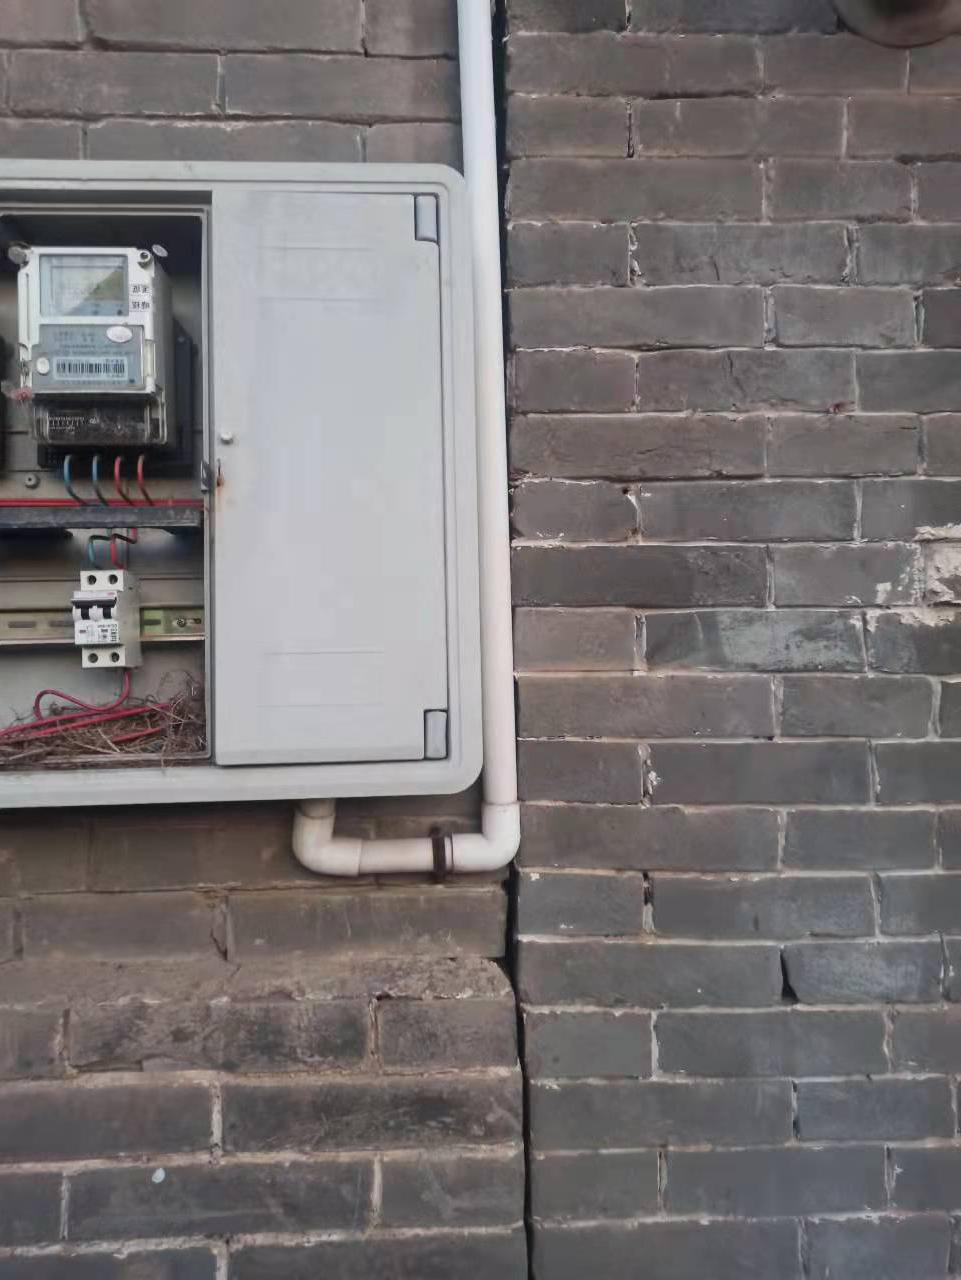digital: (19, 246, 153, 391)
